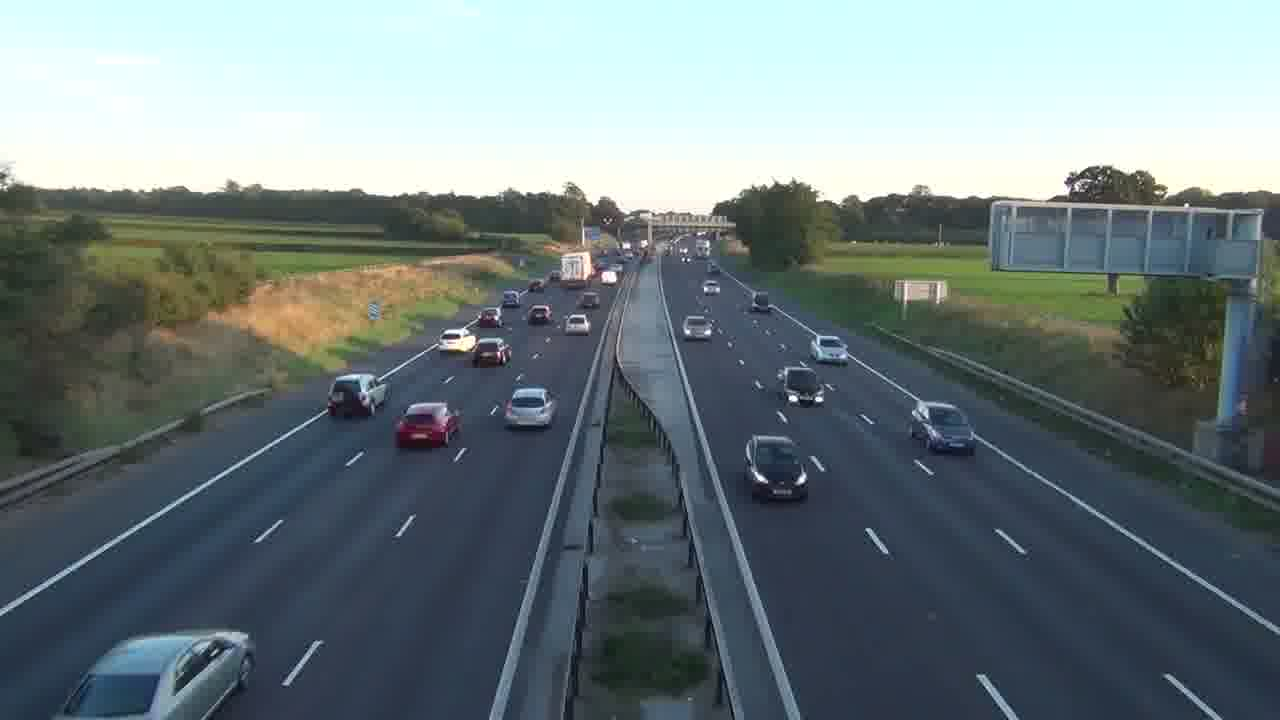car: (53, 627, 256, 719), (743, 433, 810, 502), (909, 400, 977, 455), (394, 400, 461, 449), (505, 385, 558, 430), (778, 361, 827, 406), (470, 336, 512, 367), (810, 334, 849, 366), (439, 327, 477, 353), (682, 315, 714, 341), (563, 313, 592, 336), (526, 304, 552, 325)
